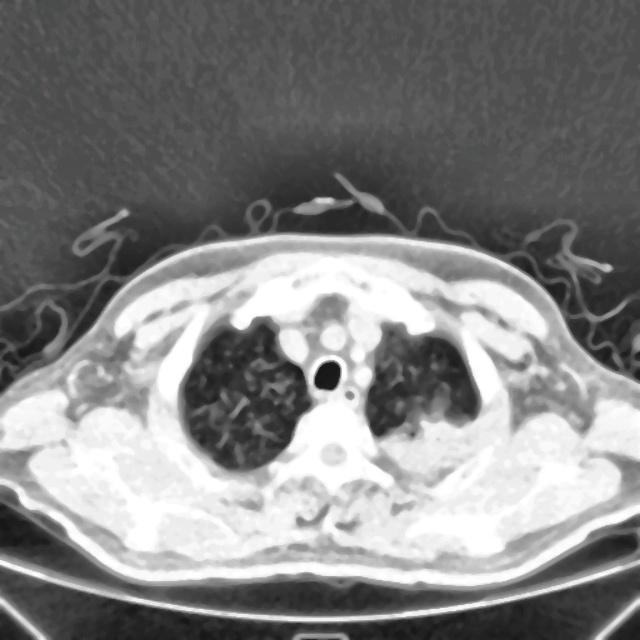covid: (0, 223, 639, 598)
